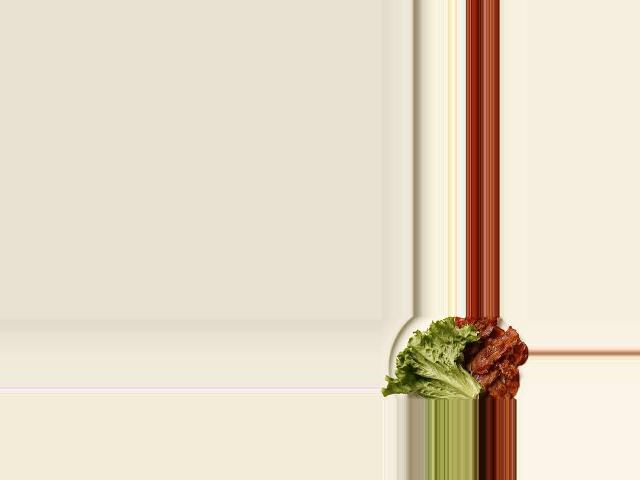lettuce: (386, 319, 479, 400)
